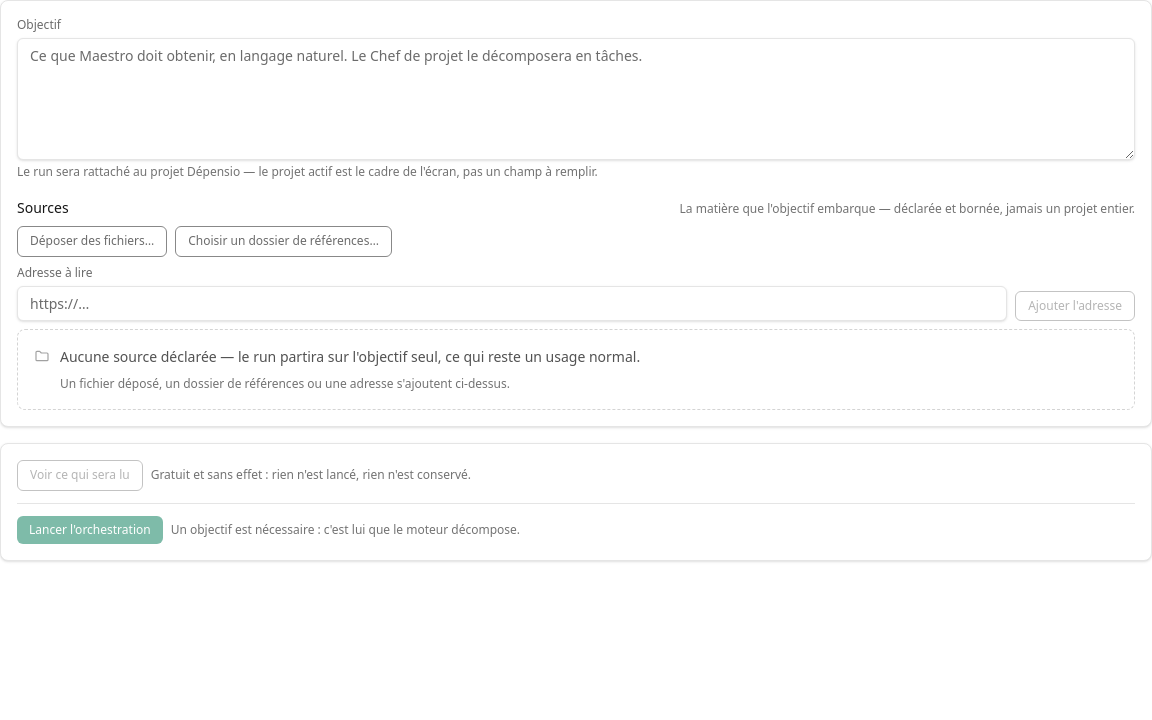
composer un objectif (#319) › joint une adresse, et seulement des http(s) — l'API tranche
This screenshot has width=1152, height=720.
Step 1. Type "https://exemple.test/spec" into the field labelled "Adresse à lire" → (512, 304), box [17,286,1007,321]
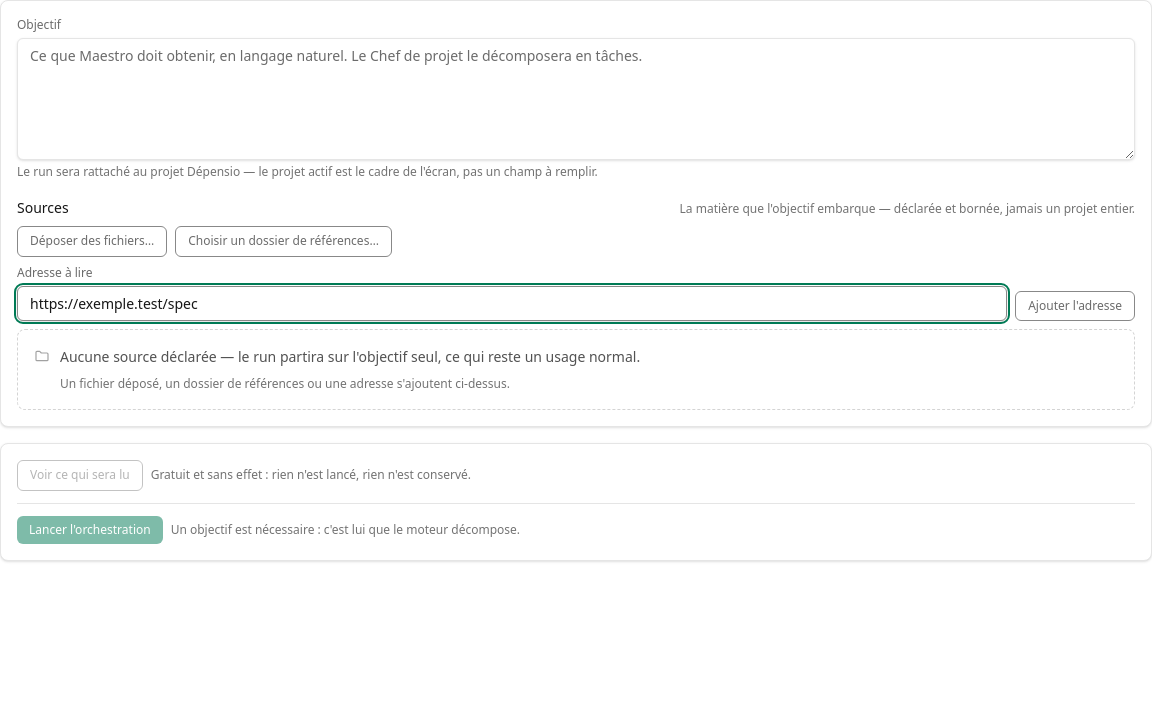
Step 2. Click the button "Ajouter l'adresse" → (1075, 306), box [1015,290,1135,321]
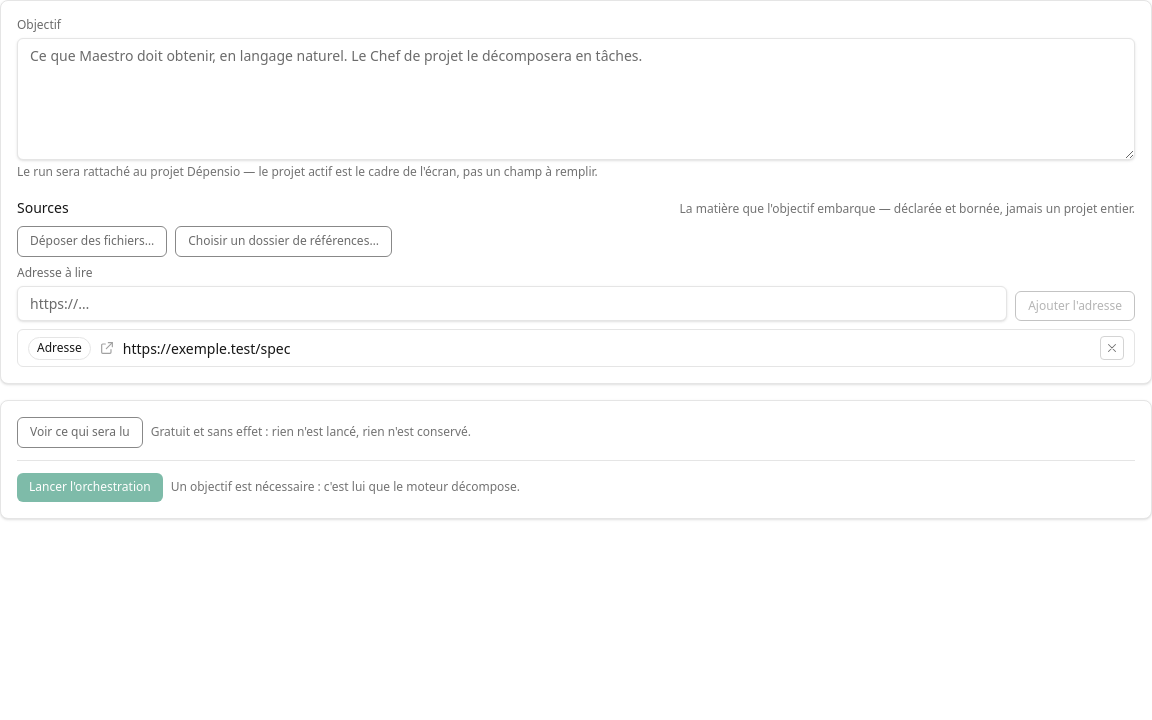
Result: the text "https://exemple.test/spec" is shown at [123,338,290,359]
Result: the field labelled "Adresse à lire" is empty at [17,286,1007,321]
